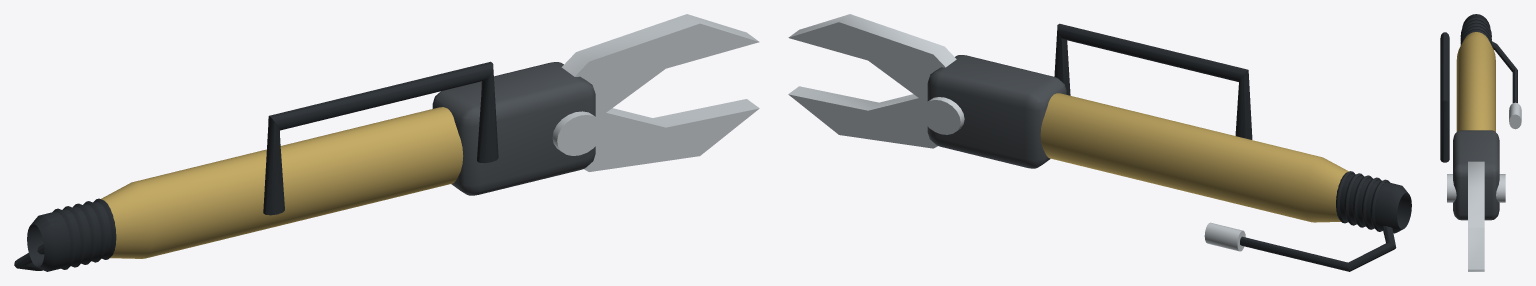
File: ob_hydraulic_cutter.glb
The picture shows the model from 3 angles, left to right: view 1: azimuth 30°, elevation 25°; view 2: azimuth 150°, elevation 25°; view 3: azimuth 270°, elevation 25°; orthographic projection. The views are drawn at different scales.
Visible parts, largest first — view 1: ob_hydraulic_cutter; view 2: ob_hydraulic_cutter; view 3: ob_hydraulic_cutter.
Boxes of the visible parts, x1,y1,x2,y2 form: ob_hydraulic_cutter: (14, 14, 759, 271); ob_hydraulic_cutter: (788, 14, 1411, 271); ob_hydraulic_cutter: (1440, 14, 1521, 271).
Bounding box in the file's own units: 0.84 × 0.18 × 0.13.
